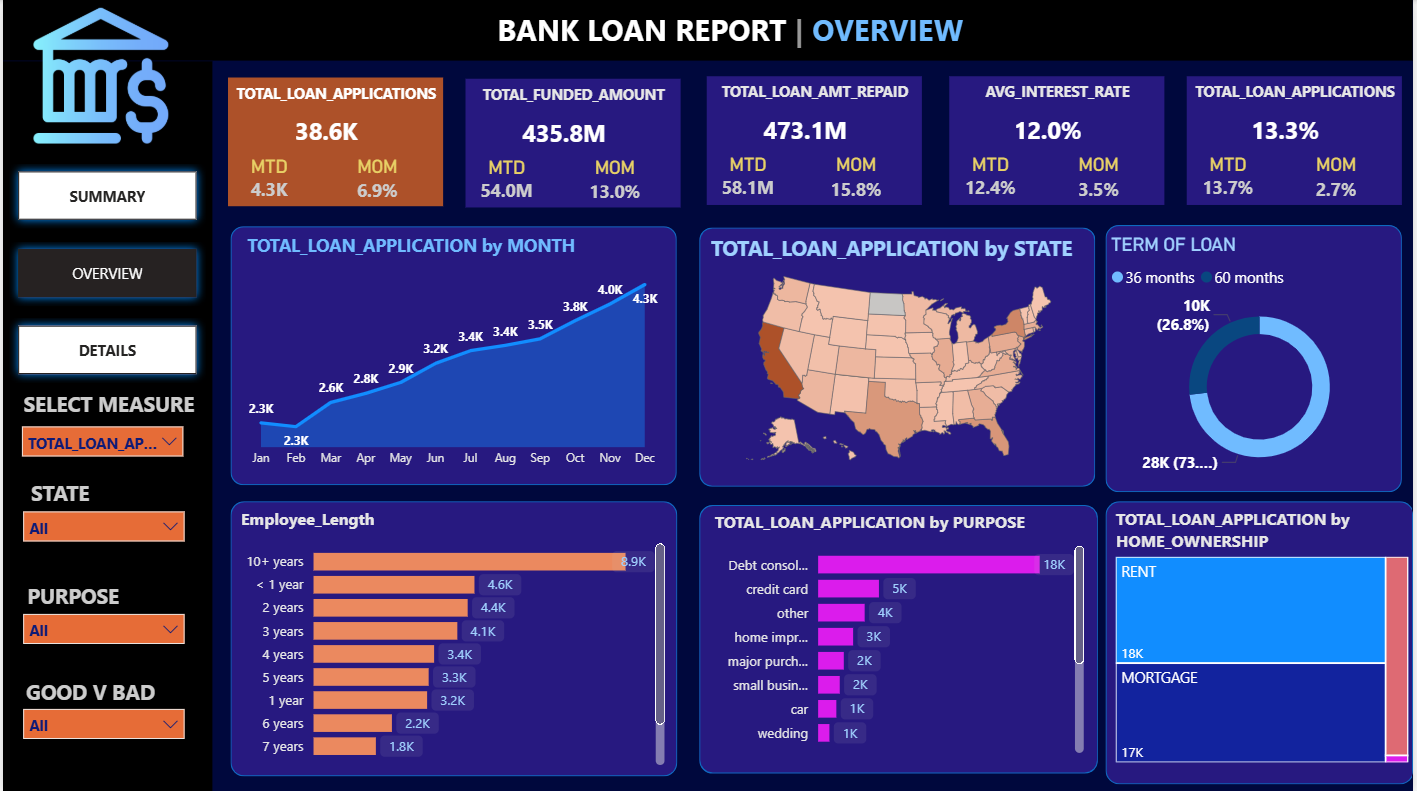

The dashboard page shown, as its layout file describes it:
{"tool":"powerbi","page":{"name":"OVERVIEW","canvas":[1280,720],"ordinal":1},"visuals":[{"type":"shape","box":[0,55.5,190,664.7],"z":0},{"type":"shape","box":[639.1,68.8,195.4,117],"z":0,"group":"g5"},{"type":"shape","box":[859,68.8,195.4,117],"z":0,"group":"g3"},{"type":"shape","box":[1073.7,69,195.4,117],"z":0,"group":"g4"},{"type":"shape","box":[203.9,70,195.4,117],"z":0,"group":"g1"},{"type":"shape","box":[419.8,71.2,195.4,117],"z":0,"group":"g2"},{"type":"shape","box":[0,0,1280,55],"z":1000},{"type":"card","fields":{"Values":["Bank_Loan_DB.TOTAL-REPAID_LOAN-AMT"]},"box":[676.5,97.8,103.8,42.2],"z":1000,"group":"g5"},{"type":"card","fields":{"Values":["Bank_Loan_DB.AVG_INTEREST-RATE"]},"box":[896.4,97.8,103.8,42.2],"z":1000,"group":"g3"},{"type":"card","fields":{"Values":["Bank_Loan_DB.AVERAGE_DTI_PERCENTAGE"]},"box":[1111.1,98,103.8,42.2],"z":1000,"group":"g4"},{"type":"card","fields":{"Values":["Bank_Loan_DB.TOTAL_LOAN_APPLICATION"]},"box":[241.3,99,103.8,42.2],"z":1000,"group":"g1"},{"type":"card","fields":{"Values":["Bank_Loan_DB.TOTAL_FUNDED_AMOUNT"]},"box":[457.2,100.2,103.8,42.2],"z":1000,"group":"g2"},{"type":"textbox","box":[431.9,3.6,463.3,48.3],"z":2000},{"type":"textbox","box":[640.3,68.8,194.2,35],"z":2000,"group":"g5"},{"type":"textbox","box":[860.2,68.8,194.2,35],"z":2000,"group":"g3"},{"type":"textbox","box":[1074.9,69,194.2,35],"z":2000,"group":"g4"},{"type":"textbox","box":[205.1,70,194.2,35],"z":2000,"group":"g1"},{"type":"textbox","box":[421,71.2,194.2,35],"z":2000,"group":"g2"},{"type":"group","id":"g1","title":"Group 1","box":[203.9,70,195.4,117],"z":3000},{"type":"card","title":"MTD","fields":{"Values":["Bank_Loan_DB.MTD_REPAID_AMOUNT"]},"box":[640.3,138.8,72.4,47.1],"z":3000,"group":"g5"},{"type":"card","title":"MTD","fields":{"Values":["Bank_Loan_DB.MTD_AVG_INTEREST"]},"box":[860.2,138.8,72.4,47.1],"z":3000,"group":"g3"},{"type":"card","title":"MTD","fields":{"Values":["Bank_Loan_DB.MTD_AVG_DTI"]},"box":[1074.9,139,72.4,47.1],"z":3000,"group":"g4"},{"type":"card","title":"MTD","fields":{"Values":["Bank_Loan_DB.MTD_LOAN_APPLICATIONS"]},"box":[205.1,140,72.4,47.1],"z":3000,"group":"g1"},{"type":"card","title":"MTD","fields":{"Values":["Bank_Loan_DB.MTD_FUNDED_AMOUNT"]},"box":[421,141.2,72.4,47.1],"z":3000,"group":"g2"},{"type":"group","id":"g2","title":"Group 1","box":[419.8,71.2,195.4,117],"z":4000},{"type":"card","title":"MOM","fields":{"Values":["Bank_Loan_DB.MOM_REPAID_AMOUNT"]},"box":[738,138.8,73.6,44.6],"z":4000,"group":"g5"},{"type":"card","title":"MOM","fields":{"Values":["Bank_Loan_DB.MOM_AVG_INTEREST"]},"box":[957.9,138.8,73.6,44.6],"z":4000,"group":"g3"},{"type":"card","title":"MOM","fields":{"Values":["Bank_Loan_DB.MOM_AVG_DTI"]},"box":[1172.6,139,73.6,44.6],"z":4000,"group":"g4"},{"type":"card","title":"MOM","fields":{"Values":["Bank_Loan_DB.MOM_TOTAL_APPLICATION"]},"box":[302.8,140,73.6,44.6],"z":4000,"group":"g1"},{"type":"card","title":"MOM","fields":{"Values":["Bank_Loan_DB.MOM_FUNDED_AMOUNT"]},"box":[518.7,141.2,73.6,44.6],"z":4000,"group":"g2"},{"type":"group","id":"g3","title":"Group 1","box":[859,68.8,195.4,117],"z":5000},{"type":"group","id":"g4","title":"Group 1","box":[1073.7,69,195.4,117],"z":6000},{"type":"group","id":"g5","title":"Group 1","box":[639.1,68.8,195.4,117],"z":7000},{"type":"shape","box":[206.3,205.1,405,235],"z":8000},{"type":"slicer","fields":{"Values":["Bank_Loan_DB.address_state"]},"box":[8.4,453.6,166.5,54.3],"z":9000},{"type":"textbox","box":[20.5,429.5,112.2,35],"z":10000},{"type":"slicer","fields":{"Values":["Bank_Loan_DB.GOOD_LOAN V BAD_LOAN"]},"box":[8.4,633.4,166.5,54.3],"z":11000},{"type":"textbox","box":[15.7,610.5,168.9,35],"z":12000},{"type":"slicer","fields":{"Values":["Bank_Loan_DB.purpose"]},"box":[8.4,546.5,166.5,54.3],"z":13000},{"type":"textbox","box":[16.9,522.4,112.2,35],"z":14000},{"type":"areaChart","fields":{"Y":["Bank_Loan_DB.TOTAL_LOAN_APPLICATION"],"Category":["DATE TABLE.MONTH"]},"box":[217.2,211.1,383.6,222],"z":15000},{"type":"slicer","fields":{"Values":["Select Measures .Select Measures "]},"box":[7.2,376.4,166.5,59.1],"z":16000},{"type":"textbox","box":[13.3,349.9,185.8,38.6],"z":17000},{"type":"shape","box":[632.2,206.3,359.5,235.3],"z":18000},{"type":"shapeMap","title":"TOTAL_LOAN_APPLICATION by STATE","fields":{"Value":["Bank_Loan_DB.TOTAL_LOAN_APPLICATION"],"Category":["Bank_Loan_DB.address_state"]},"box":[637,212.3,351.1,219.6],"z":19000},{"type":"shape","box":[1000.1,203.9,269,242.5],"z":20000},{"type":"donutChart","title":"TERM OF LOAN","fields":{"Category":["Bank_Loan_DB.term"],"Y":["Bank_Loan_DB.TOTAL_LOAN_APPLICATION"]},"box":[1000.1,212.3,279.9,229.2],"z":21000},{"type":"shape","box":[206.3,454.8,405.4,249.7],"z":22000},{"type":"clusteredBarChart","title":"Employee_Length","fields":{"Y":["Bank_Loan_DB.TOTAL_LOAN_APPLICATION"],"Category":["Bank_Loan_DB.emp_length"]},"box":[211.1,460.9,394.5,238.9],"z":23000},{"type":"shape","box":[632.2,458.4,361.9,243.7],"z":24000},{"type":"clusteredBarChart","fields":{"Y":["Bank_Loan_DB.TOTAL_LOAN_APPLICATION"],"Category":["Bank_Loan_DB.purpose"]},"box":[640.6,463.3,345,225.6],"z":25000},{"type":"shape","box":[1000.1,454.8,279.9,257],"z":26000},{"type":"treemap","title":"TOTAL_LOAN_APPLICATION by HOME_OWNERSHIP","fields":{"Values":["Bank_Loan_DB.TOTAL_LOAN_APPLICATION"],"Group":["Bank_Loan_DB.home_ownership"]},"box":[1005,460.9,275.1,236.5],"z":27000},{"type":"image","box":[20.5,2.4,136.3,132.7],"z":29000},{"type":"pageNavigator","box":[6,147.2,178.6,202.7],"z":30000}]}

Visuals, with their boxes in screenshot pixels (x1, y1, x2, y2), scaled from the page's 1280x720 canvas onto the 1417x791 screenshot:
shape: (x1=0, y1=61, x2=210, y2=790)
shape: (x1=708, y1=76, x2=924, y2=204)
shape: (x1=951, y1=76, x2=1167, y2=204)
shape: (x1=1189, y1=76, x2=1405, y2=204)
shape: (x1=226, y1=77, x2=442, y2=205)
shape: (x1=465, y1=78, x2=681, y2=207)
shape: (x1=0, y1=0, x2=1416, y2=60)
card - Bank_Loan_DB.TOTAL-REPAID_LOAN-AMT: (x1=749, y1=107, x2=864, y2=154)
card - Bank_Loan_DB.AVG_INTEREST-RATE: (x1=992, y1=107, x2=1107, y2=154)
card - Bank_Loan_DB.AVERAGE_DTI_PERCENTAGE: (x1=1230, y1=108, x2=1345, y2=154)
card - Bank_Loan_DB.TOTAL_LOAN_APPLICATION: (x1=267, y1=109, x2=382, y2=155)
card - Bank_Loan_DB.TOTAL_FUNDED_AMOUNT: (x1=506, y1=110, x2=621, y2=156)
textbox: (x1=478, y1=4, x2=991, y2=57)
textbox: (x1=709, y1=76, x2=924, y2=114)
textbox: (x1=952, y1=76, x2=1167, y2=114)
textbox: (x1=1190, y1=76, x2=1405, y2=114)
textbox: (x1=227, y1=77, x2=442, y2=115)
textbox: (x1=466, y1=78, x2=681, y2=117)
"Group 1" group: (x1=226, y1=77, x2=442, y2=205)
"MTD" card: (x1=709, y1=152, x2=789, y2=204)
"MTD" card: (x1=952, y1=152, x2=1032, y2=204)
"MTD" card: (x1=1190, y1=153, x2=1270, y2=204)
"MTD" card: (x1=227, y1=154, x2=307, y2=206)
"MTD" card: (x1=466, y1=155, x2=546, y2=207)
"Group 1" group: (x1=465, y1=78, x2=681, y2=207)
"MOM" card: (x1=817, y1=152, x2=898, y2=201)
"MOM" card: (x1=1060, y1=152, x2=1142, y2=201)
"MOM" card: (x1=1298, y1=153, x2=1380, y2=202)
"MOM" card: (x1=335, y1=154, x2=417, y2=203)
"MOM" card: (x1=574, y1=155, x2=656, y2=204)
"Group 1" group: (x1=951, y1=76, x2=1167, y2=204)
"Group 1" group: (x1=1189, y1=76, x2=1405, y2=204)
"Group 1" group: (x1=708, y1=76, x2=924, y2=204)
shape: (x1=228, y1=225, x2=677, y2=483)
slicer - Bank_Loan_DB.address_state: (x1=9, y1=498, x2=194, y2=558)
textbox: (x1=23, y1=472, x2=147, y2=510)
slicer - Bank_Loan_DB.GOOD_LOAN V BAD_LOAN: (x1=9, y1=696, x2=194, y2=756)
textbox: (x1=17, y1=671, x2=204, y2=709)
slicer - Bank_Loan_DB.purpose: (x1=9, y1=600, x2=194, y2=660)
textbox: (x1=19, y1=574, x2=143, y2=612)
areaChart - Bank_Loan_DB.TOTAL_LOAN_APPLICATION x DATE TABLE.MONTH: (x1=240, y1=232, x2=665, y2=476)
slicer - Select Measures .Select Measures : (x1=8, y1=414, x2=192, y2=478)
textbox: (x1=15, y1=384, x2=220, y2=427)
shape: (x1=700, y1=227, x2=1098, y2=485)
"TOTAL_LOAN_APPLICATION by STATE" shapeMap: (x1=705, y1=233, x2=1094, y2=474)
shape: (x1=1107, y1=224, x2=1405, y2=490)
"TERM OF LOAN" donutChart: (x1=1107, y1=233, x2=1416, y2=485)
shape: (x1=228, y1=500, x2=677, y2=774)
"Employee_Length" clusteredBarChart: (x1=234, y1=506, x2=670, y2=769)
shape: (x1=700, y1=504, x2=1100, y2=771)
clusteredBarChart - Bank_Loan_DB.TOTAL_LOAN_APPLICATION x Bank_Loan_DB.purpose: (x1=709, y1=509, x2=1091, y2=757)
shape: (x1=1107, y1=500, x2=1416, y2=782)
"TOTAL_LOAN_APPLICATION by HOME_OWNERSHIP" treemap: (x1=1113, y1=506, x2=1416, y2=766)
image: (x1=23, y1=3, x2=174, y2=148)
pageNavigator: (x1=7, y1=162, x2=204, y2=384)
